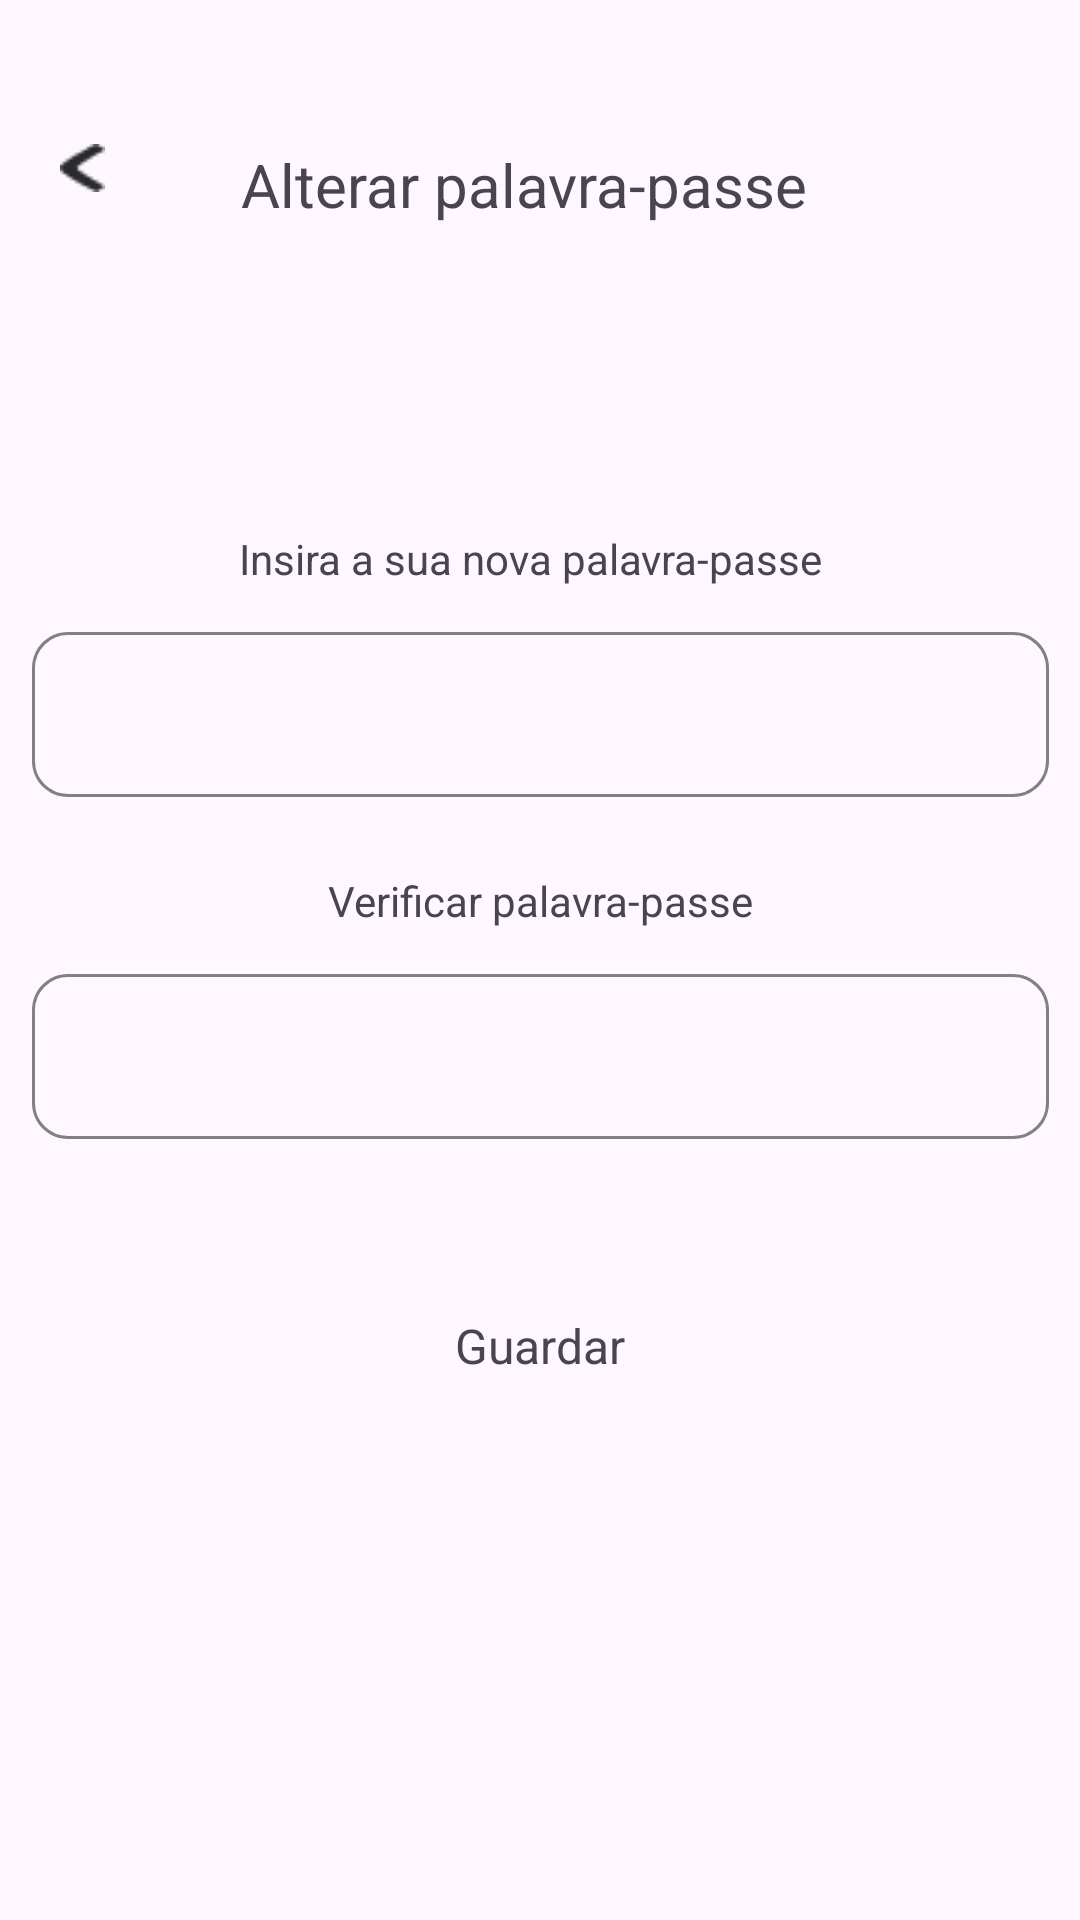

Screen size 1080px×1920px. Icon name, then its box in pixels as (x1, y1, x2, y2):
seta back: (60, 144, 105, 192)
